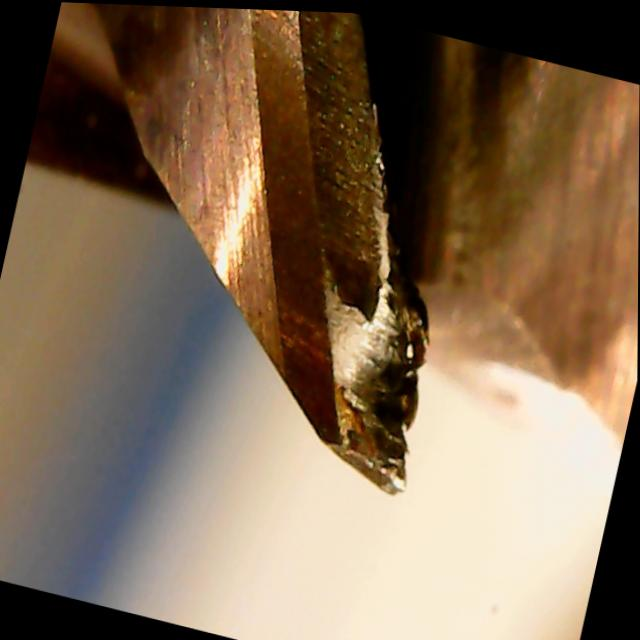Tool-wear-class-3: (223, 251, 454, 526)
